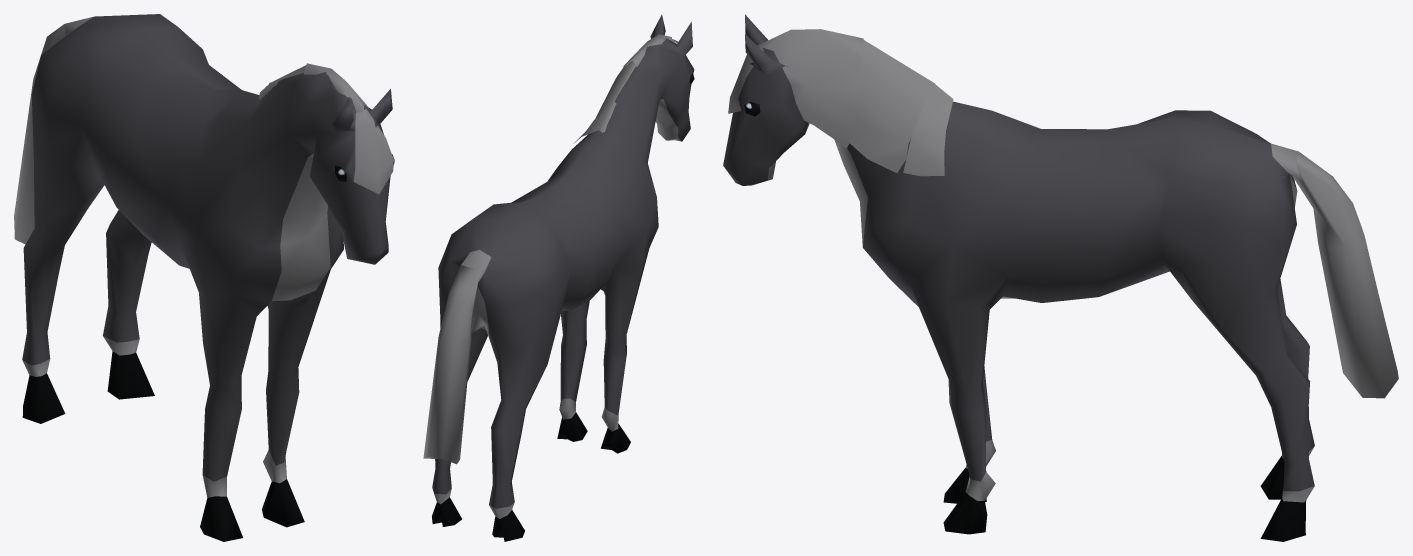
File: Horse02.glb
3 renders of one model, left to right at view 1: azimuth 30°, elevation 25°; view 2: azimuth 150°, elevation 25°; view 3: azimuth 270°, elevation 25°, orthographic. The views are drawn at different scales.
Parts seen in each view (by area): view 1: Horse02; view 2: Horse02; view 3: Horse02.
Part boxes in pixels (x1,y1,x2,y2): Horse02: (14, 14, 394, 541); Horse02: (423, 14, 694, 541); Horse02: (723, 14, 1398, 541).
Size of what is drawn, in the model's own units: 0.6081 by 2.01 by 2.51.
Materials: 1 (1 with a texture image).
